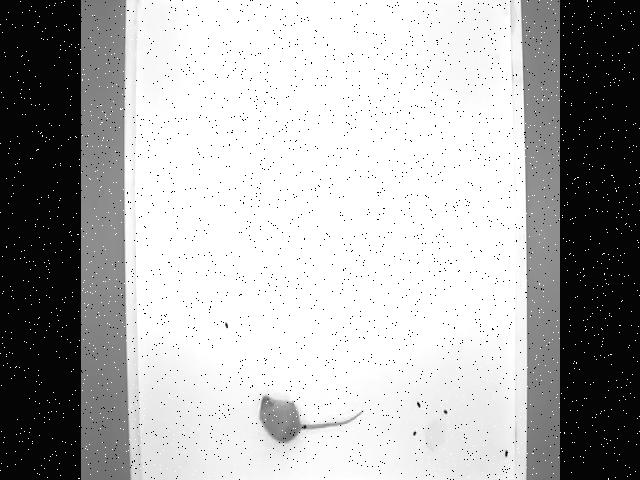Tikus: (257, 395, 363, 443)
